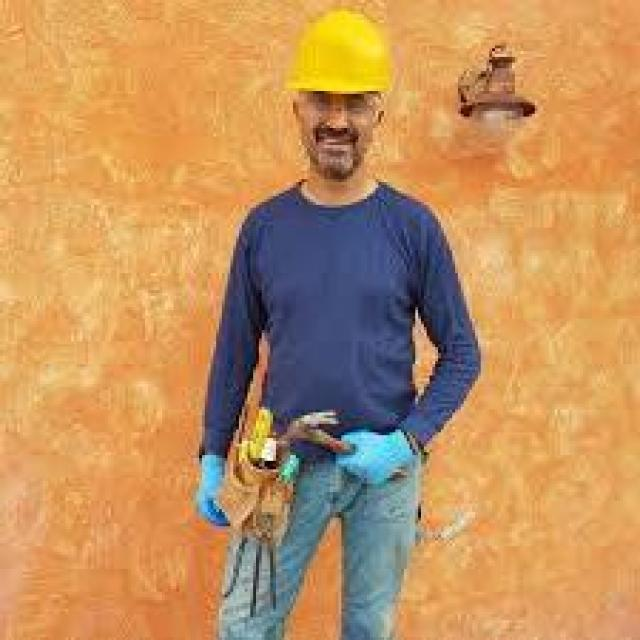Safety-Helmet: (264, 2, 406, 116)
